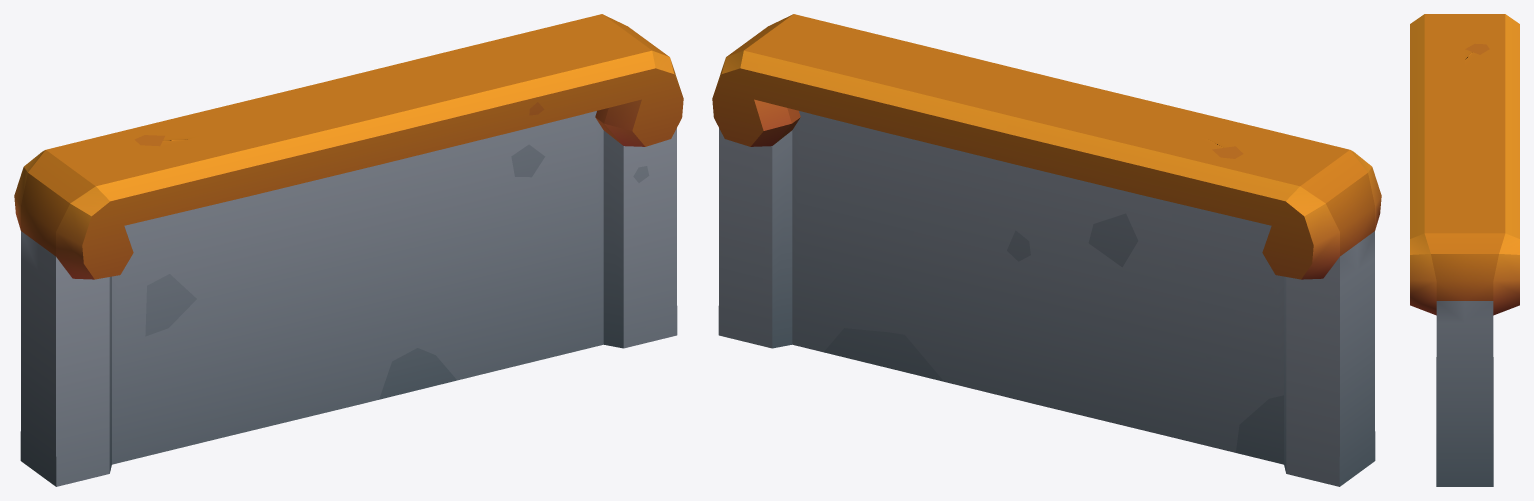
The model's file is stonewall_1.glb.
3 renders of one model, left to right at view 1: azimuth 30°, elevation 25°; view 2: azimuth 150°, elevation 25°; view 3: azimuth 270°, elevation 25°, orthographic. The views are drawn at different scales.
Parts seen in each view (by area): view 1: stonewall_1; view 2: stonewall_1; view 3: stonewall_1.
Part boxes in pixels (<box>): stonewall_1: <box>14,14,683,486</box>; stonewall_1: <box>712,14,1381,486</box>; stonewall_1: <box>1410,14,1519,486</box>.
Size of the model in its own units: 3.31 by 1.52 by 0.6268.
Materials: 1 (1 with a texture image).
